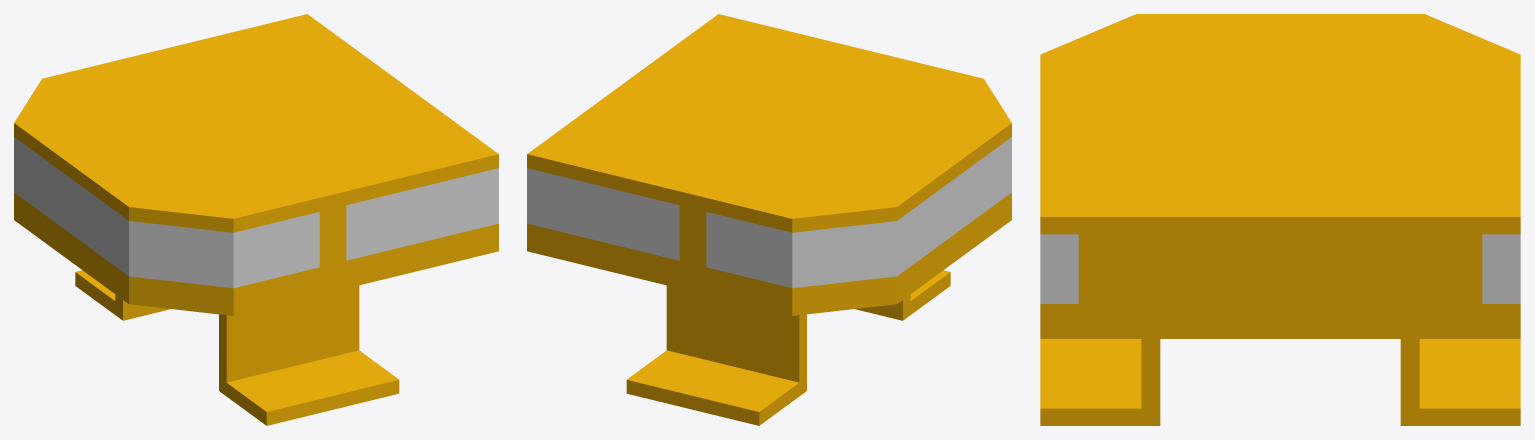
The model's file is beacon_light_mount.dae.
3 views of the same model, side by side, from view 1: azimuth 30°, elevation 25°; view 2: azimuth 150°, elevation 25°; view 3: azimuth 270°, elevation 25° (orthographic). The views are drawn at different scales.
Visible parts, largest first — view 1: Cube; view 2: Cube; view 3: Cube.
Boxes of the visible parts, x1=… form: Cube: x1=14, y1=14, x2=498, y2=425; Cube: x1=527, y1=14, x2=1011, y2=425; Cube: x1=1040, y1=14, x2=1520, y2=425.
Size of the model in its own units: 0.25 by 0.25 by 0.155.
